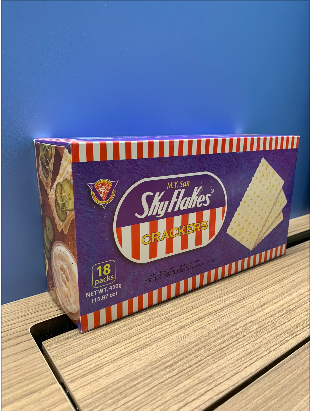Crackers_400-499g: (54, 148, 286, 276)
